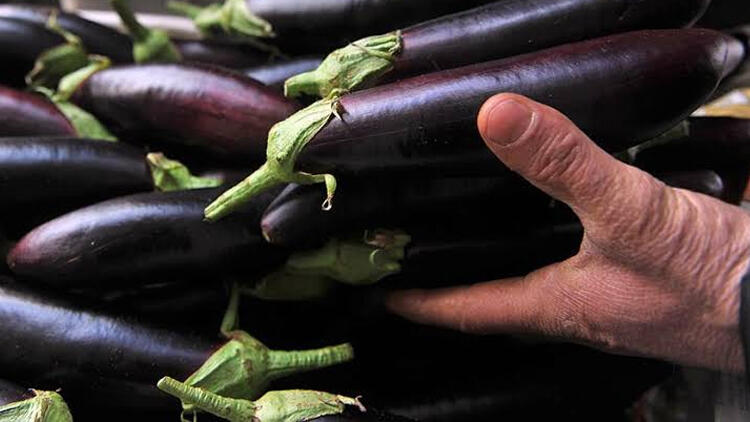Eggplant: (205, 21, 750, 221)
